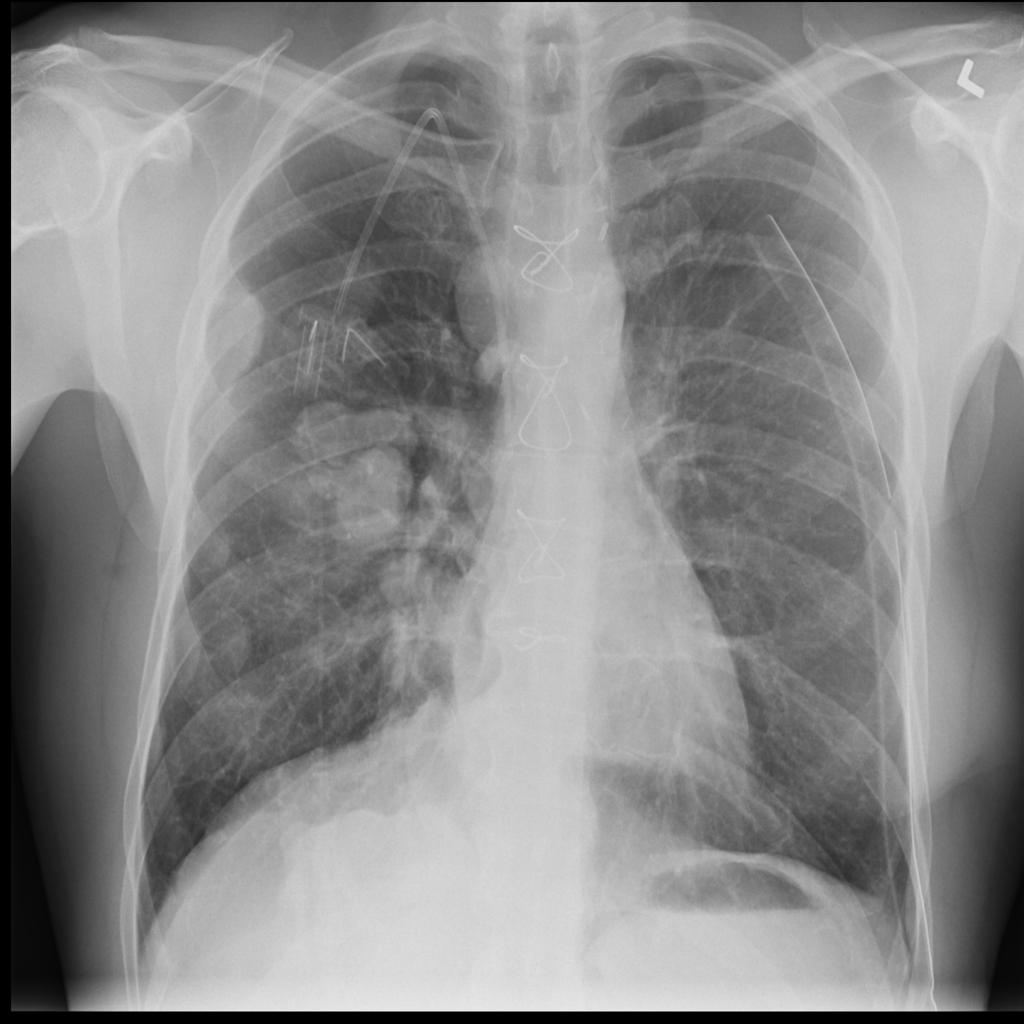nodule: (278, 383, 424, 573), (194, 600, 266, 686)
